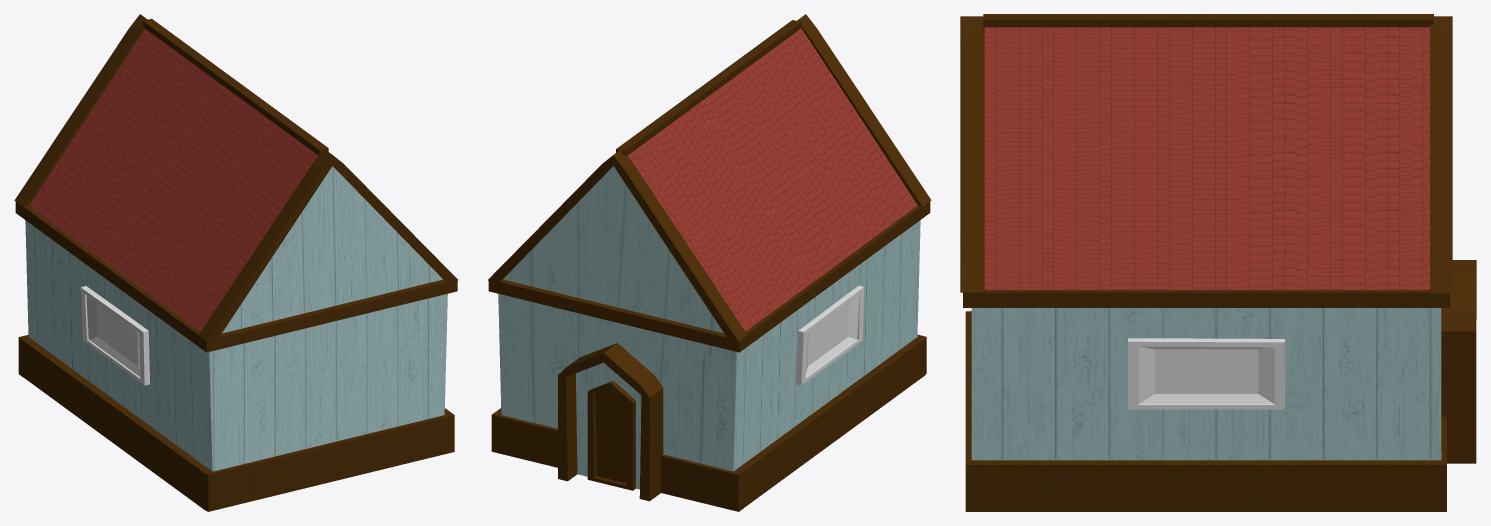
File: casa6.fbx
3 views of the same model, side by side, from view 1: azimuth 30°, elevation 25°; view 2: azimuth 150°, elevation 25°; view 3: azimuth 270°, elevation 25° (orthographic). The views are drawn at different scales.
Visible parts, largest first — view 1: estrutura, telhas, telhas canto, janelas, vidro; view 2: estrutura, telhas, telhas canto, janelas, vidro; view 3: telhas, estrutura, telhas canto, janelas, vidro.
Boxes of the visible parts, box(x1,y1,x2,y2) form: estrutura: box(15, 202, 457, 511); telhas: box(29, 29, 318, 331); telhas canto: box(14, 14, 458, 341); janelas: box(80, 286, 149, 385); vidro: box(96, 303, 137, 365); estrutura: box(488, 166, 930, 511); telhas: box(627, 28, 917, 331); telhas canto: box(488, 14, 931, 341); janelas: box(796, 285, 863, 385); vidro: box(808, 302, 849, 365); telhas: box(984, 27, 1429, 289); estrutura: box(963, 260, 1476, 511); telhas canto: box(960, 14, 1452, 293); janelas: box(1128, 338, 1284, 409); vidro: box(1154, 349, 1258, 393).
Bounding box in the file's own units: 315 × 394 × 440.
